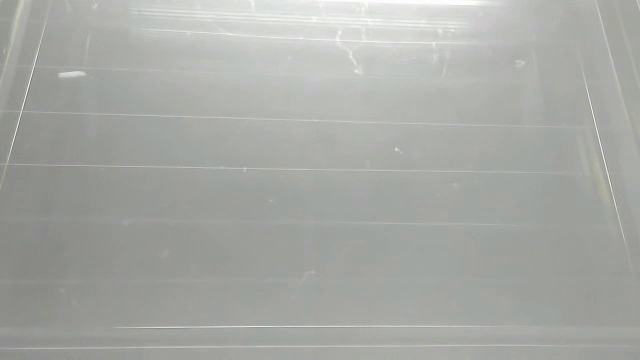alpha: (55, 67, 89, 83)
